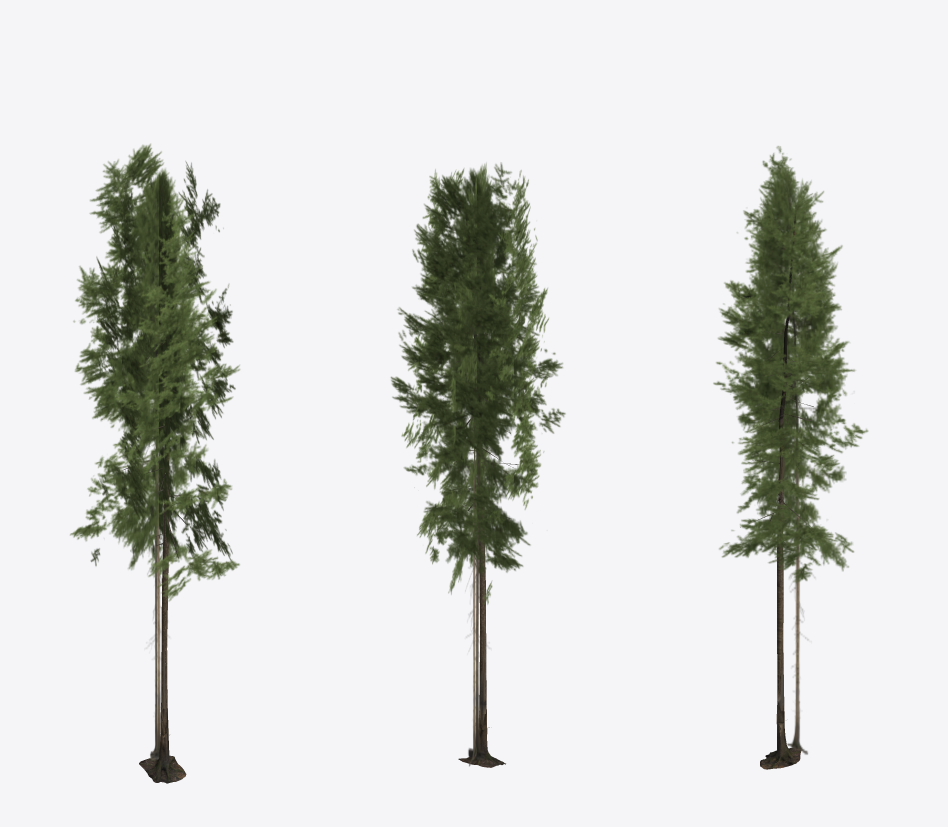
File: fir-a-spatial-near-lite.glb
3 views of the same model, side by side, from view 1: azimuth 30°, elevation 25°; view 2: azimuth 150°, elevation 25°; view 3: azimuth 270°, elevation 25° (orthographic).
Visible parts, largest first — view 1: fir-a-full-canopy-1, fir-a-cluster-11, fir-a-full-canopy-0, fir-a-cluster-10, fir-a-cluster-09, fir-a-cluster-13, fir-a-cluster-15, fir-a-real-trunk, fir-a-cluster-07, fir-a-cluster-08, fir-a-cluster-04, fir-a-cluster-05 (+3 smaller); view 2: fir-a-full-canopy-1, fir-a-cluster-09, fir-a-cluster-13, fir-a-full-canopy-0, fir-a-cluster-10, fir-a-cluster-05, fir-a-cluster-11, fir-a-cluster-14, fir-a-real-trunk, fir-a-cluster-04, fir-a-cluster-15, fir-a-cluster-08 (+3 smaller); view 3: fir-a-full-canopy-0, fir-a-cluster-08, fir-a-cluster-04, fir-a-cluster-12, fir-a-real-trunk, fir-a-cluster-10, fir-a-cluster-06, fir-a-cluster-14.
Boxes of the visible parts, bbox=[...] form: fir-a-full-canopy-1: bbox=[108, 168, 207, 760]; fir-a-cluster-11: bbox=[113, 293, 239, 470]; fir-a-full-canopy-0: bbox=[130, 172, 187, 753]; fir-a-cluster-10: bbox=[97, 280, 159, 469]; fir-a-cluster-09: bbox=[73, 268, 197, 430]; fir-a-cluster-13: bbox=[77, 143, 179, 282]; fir-a-cluster-15: bbox=[142, 194, 216, 339]; fir-a-real-trunk: bbox=[120, 316, 206, 783]; fir-a-cluster-07: bbox=[144, 439, 239, 601]; fir-a-cluster-08: bbox=[179, 271, 235, 439]; fir-a-cluster-04: bbox=[175, 430, 232, 560]; fir-a-cluster-05: bbox=[70, 434, 188, 541]; fir-a-full-canopy-1: bbox=[428, 168, 527, 760]; fir-a-cluster-09: bbox=[390, 292, 519, 462]; fir-a-cluster-13: bbox=[412, 175, 516, 339]; fir-a-full-canopy-0: bbox=[448, 163, 499, 766]; fir-a-cluster-10: bbox=[485, 279, 548, 455]; fir-a-cluster-05: bbox=[404, 439, 522, 572]; fir-a-cluster-11: bbox=[445, 270, 565, 439]; fir-a-cluster-14: bbox=[488, 170, 537, 308]; fir-a-real-trunk: bbox=[448, 220, 518, 767]; fir-a-cluster-04: bbox=[416, 436, 472, 564]; fir-a-cluster-15: bbox=[488, 162, 536, 275]; fir-a-cluster-08: bbox=[401, 278, 457, 454]; fir-a-full-canopy-0: bbox=[735, 166, 848, 754]; fir-a-cluster-08: bbox=[713, 299, 868, 461]; fir-a-cluster-04: bbox=[719, 460, 839, 582]; fir-a-cluster-12: bbox=[726, 191, 836, 333]; fir-a-real-trunk: bbox=[740, 205, 813, 769]; fir-a-cluster-10: bbox=[716, 264, 849, 425]; fir-a-cluster-06: bbox=[732, 425, 853, 553]; fir-a-cluster-14: bbox=[741, 146, 842, 299].
Bounding box in the file's own units: 8 × 21.5 × 8.
Materials: 5 (5 with a texture image).
